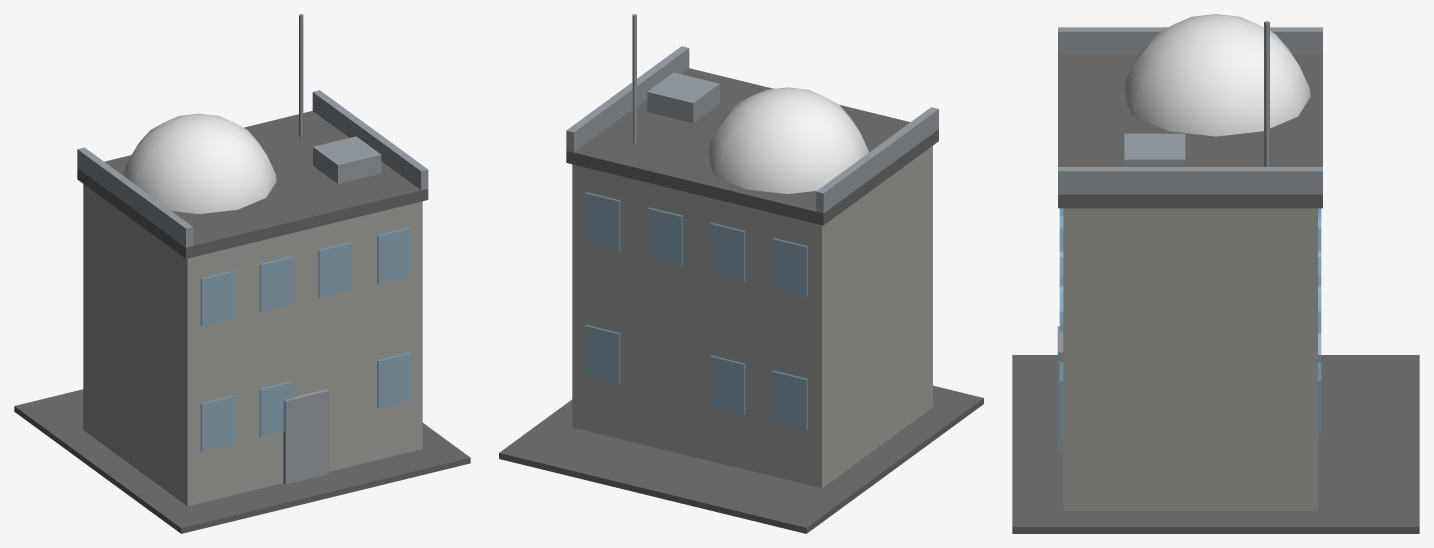
Rendered from bld_special_laboratory_a06.glb.
The picture shows the model from 3 angles, left to right: view 1: azimuth 30°, elevation 25°; view 2: azimuth 150°, elevation 25°; view 3: azimuth 270°, elevation 25°; orthographic projection. The views are drawn at different scales.
Visible parts, largest first — view 1: body; view 2: body; view 3: body.
Boxes of the visible parts, x1,y1,x2,y2 form: body: (14, 14, 470, 533); body: (499, 14, 983, 533); body: (1012, 14, 1419, 533).
Size of what is drawn, in the model's own units: 8 by 10.25 by 8.
